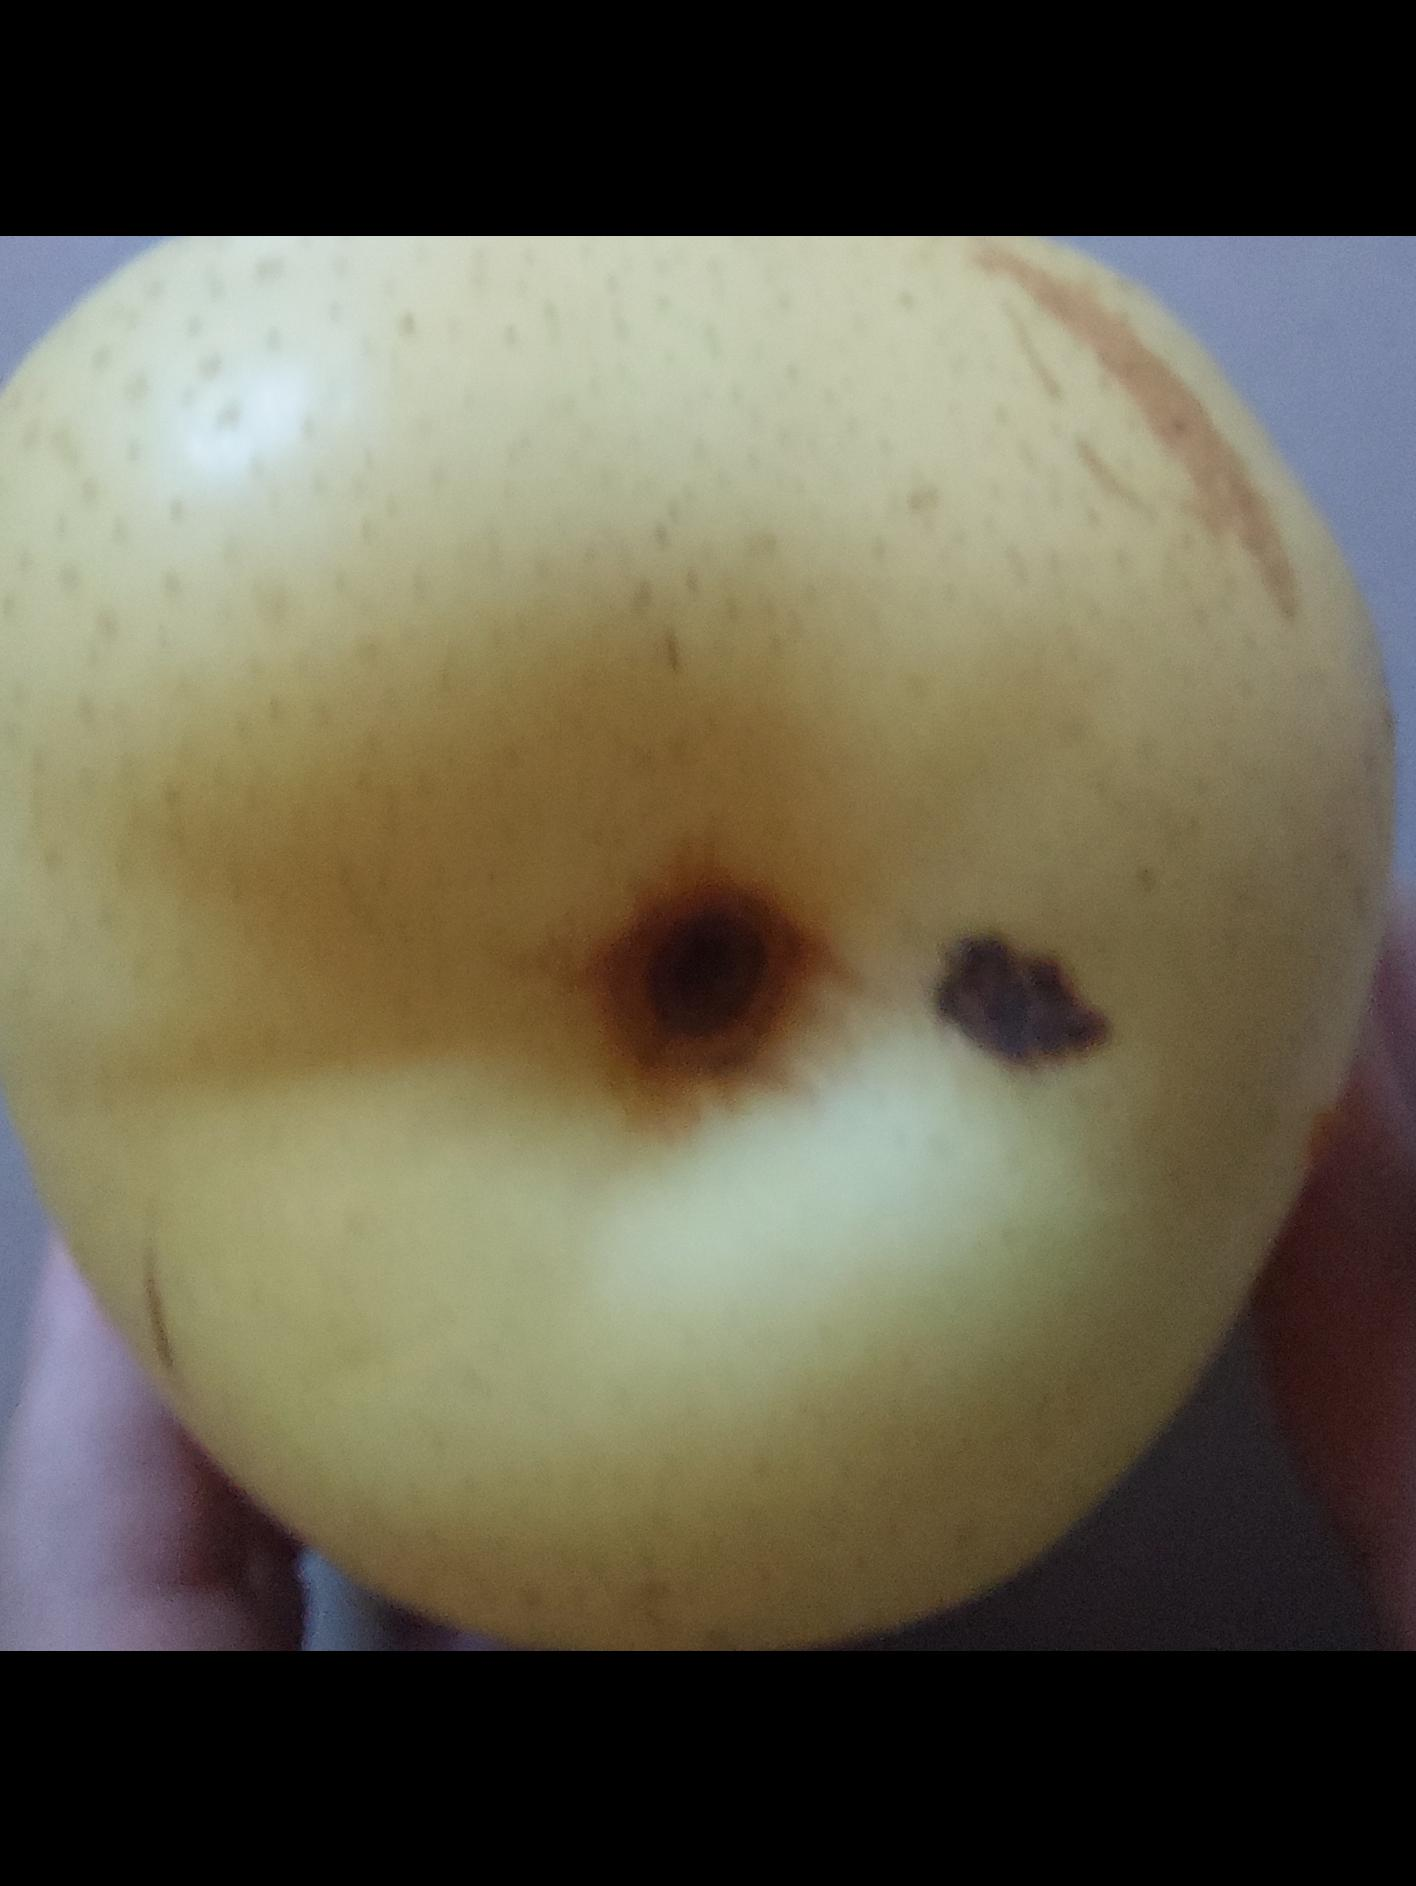Good Pear: (0, 235, 1406, 1651)
